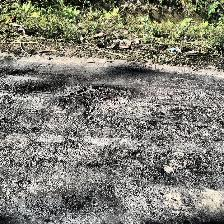pothole: (74, 84, 134, 120)
